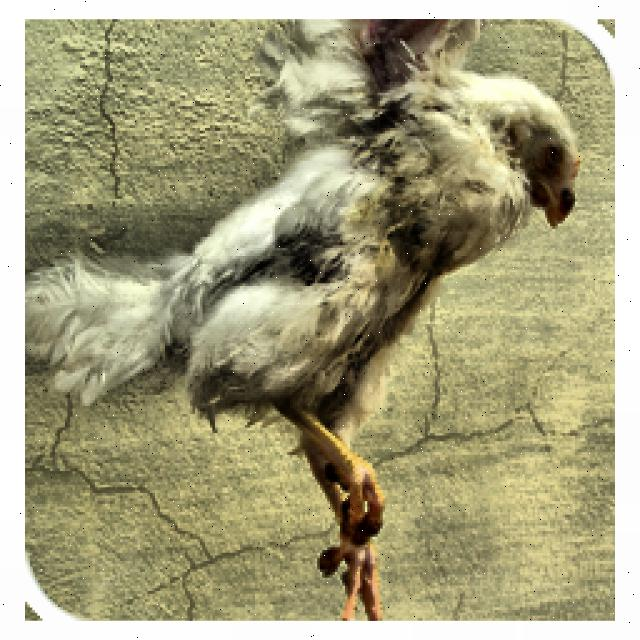Fowlpox: (299, 443, 405, 608), (494, 122, 592, 236)
